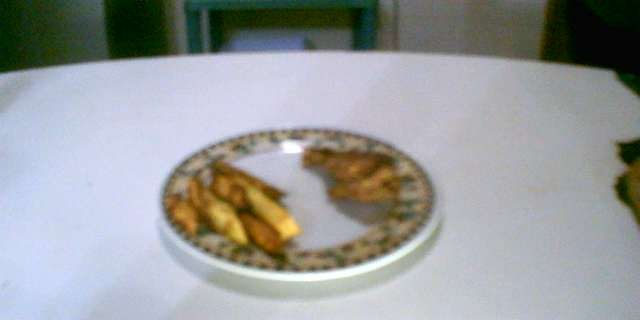chicken: (292, 129, 405, 214)
potatoe_fries: (168, 158, 299, 261)
